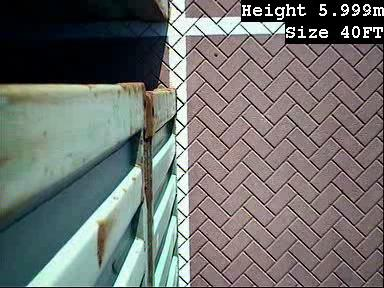groundmarker_2: (192, 157, 243, 224)
